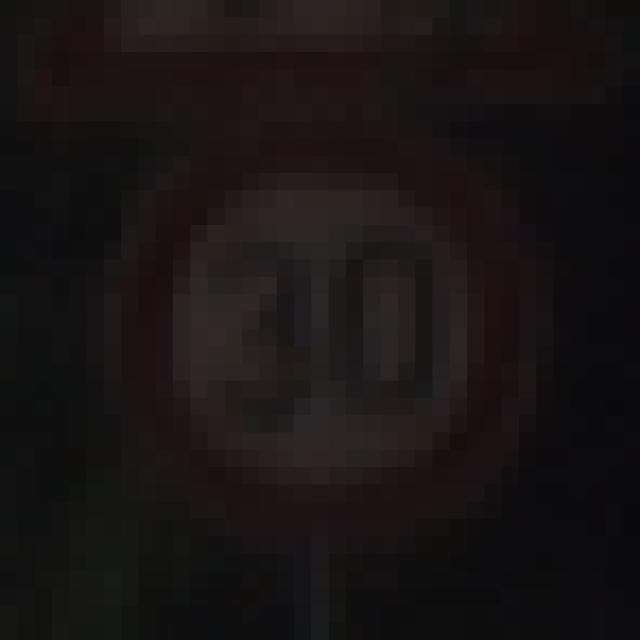Speed Limit -30-: (95, 78, 545, 545)
